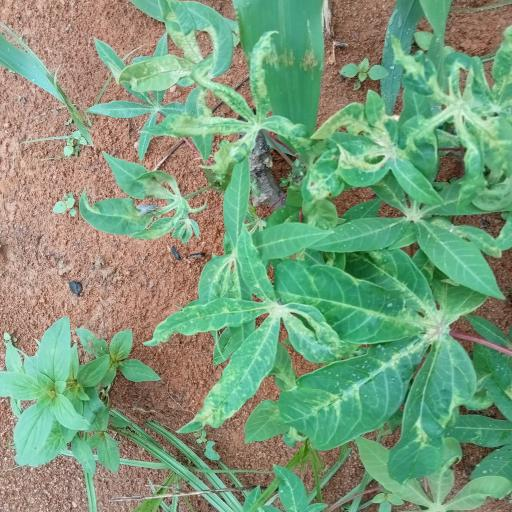Cassava_Mosaic: (246, 253, 486, 447), (177, 224, 330, 428), (170, 26, 302, 156), (419, 58, 512, 202), (327, 97, 432, 212)
